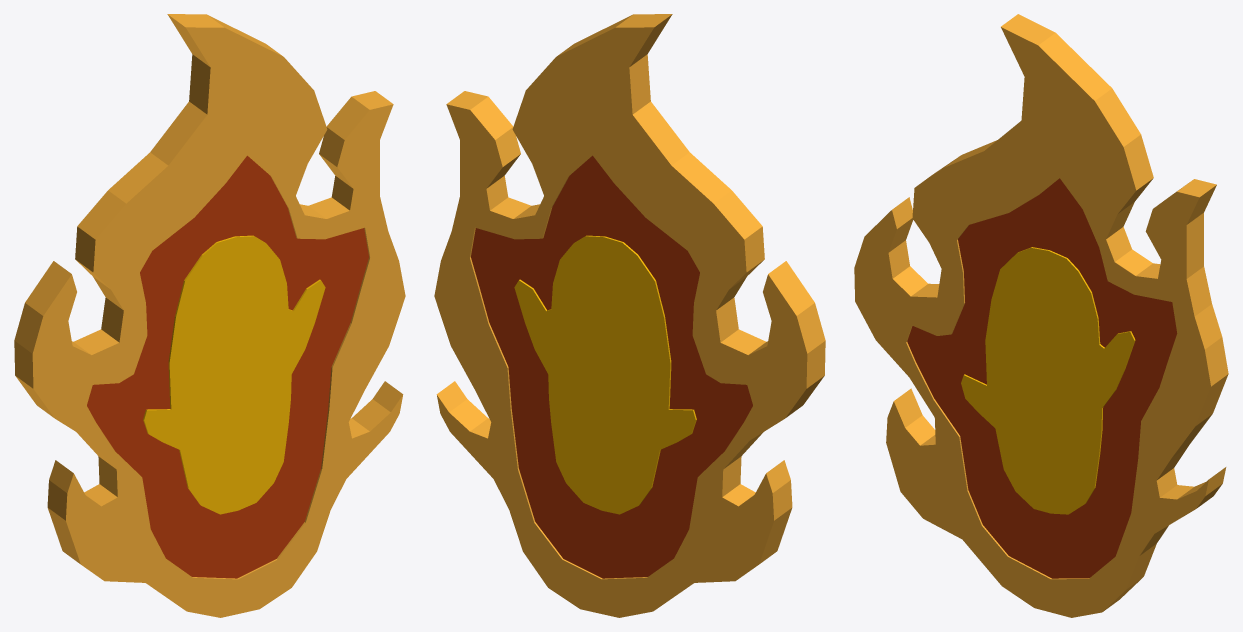
The model's file is guard_flame.glb.
3 views of the same model, side by side, from view 1: azimuth 30°, elevation 25°; view 2: azimuth 150°, elevation 25°; view 3: azimuth 330°, elevation 25° (orthographic). The views are drawn at different scales.
Parts seen in each view (by area): view 1: Guard; view 2: Guard; view 3: Guard.
Part boxes in pixels (x1,y1,x2,y2): Guard: [14, 14, 405, 617]; Guard: [434, 14, 825, 617]; Guard: [854, 14, 1228, 617].
Size of the model in its own units: 0.0986 by 0.1515 by 0.00839.
